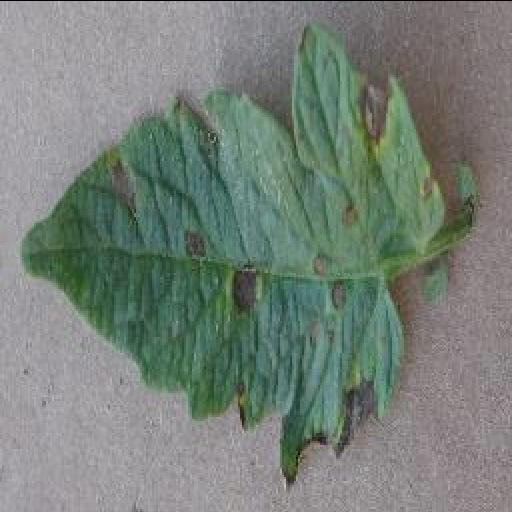disease_tomato: (14, 22, 444, 486)
